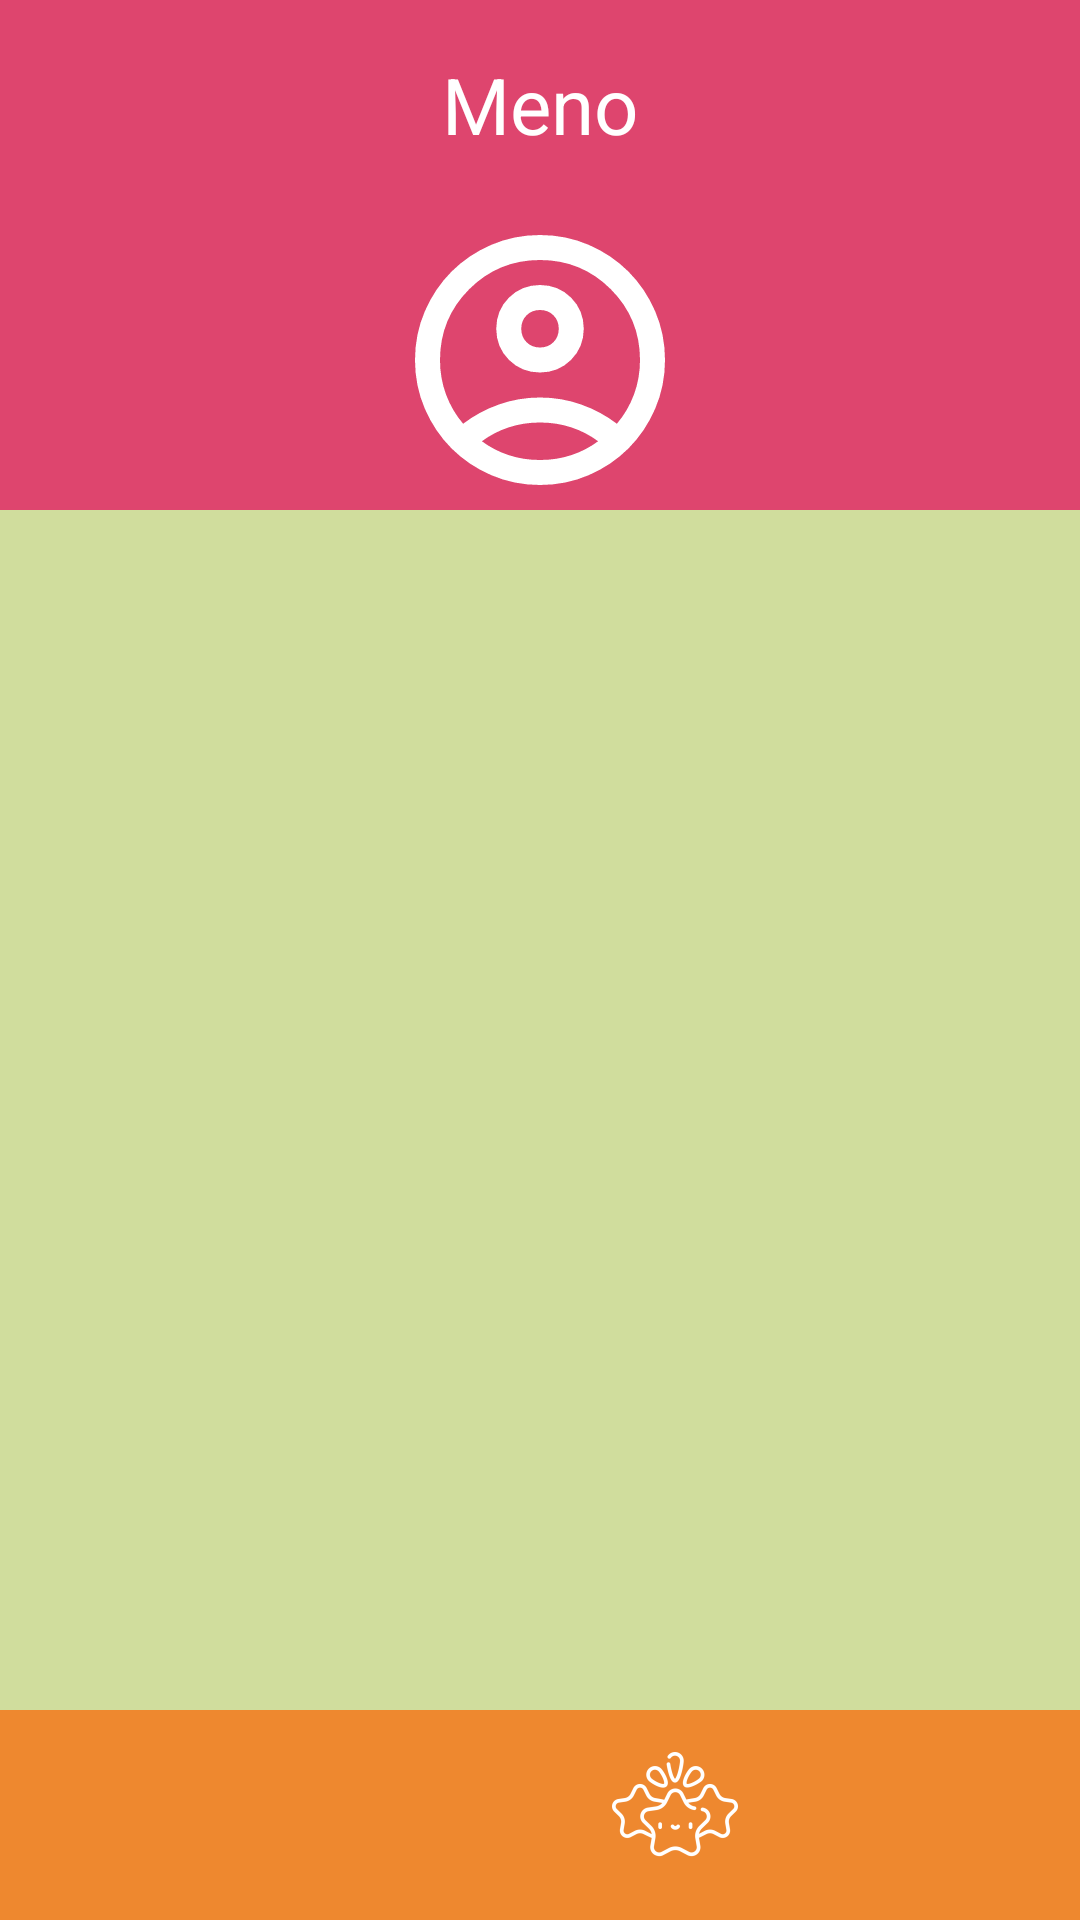

Icons on this 1080×1920 Android screen, each with the point to tap as (x=x, y=y):
account circle on: (x=540, y=360)
Hodnotenie: (x=675, y=1804)
